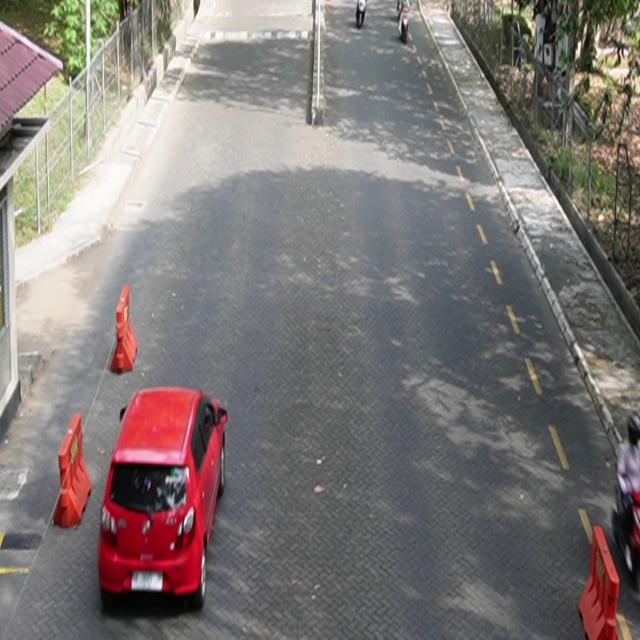car: (99, 386, 229, 610)
